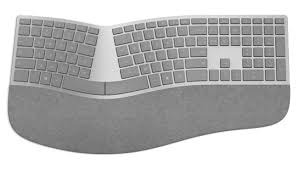keyboard: (4, 6, 291, 155)
